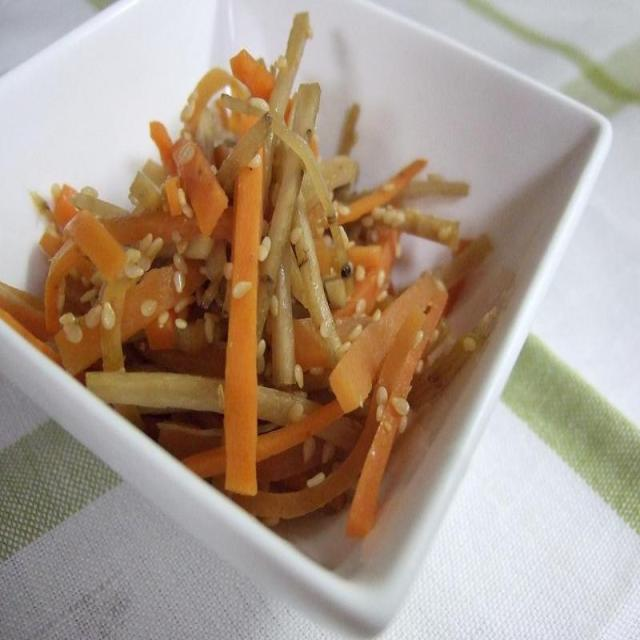蔬菜料理: (0, 6, 522, 598)
